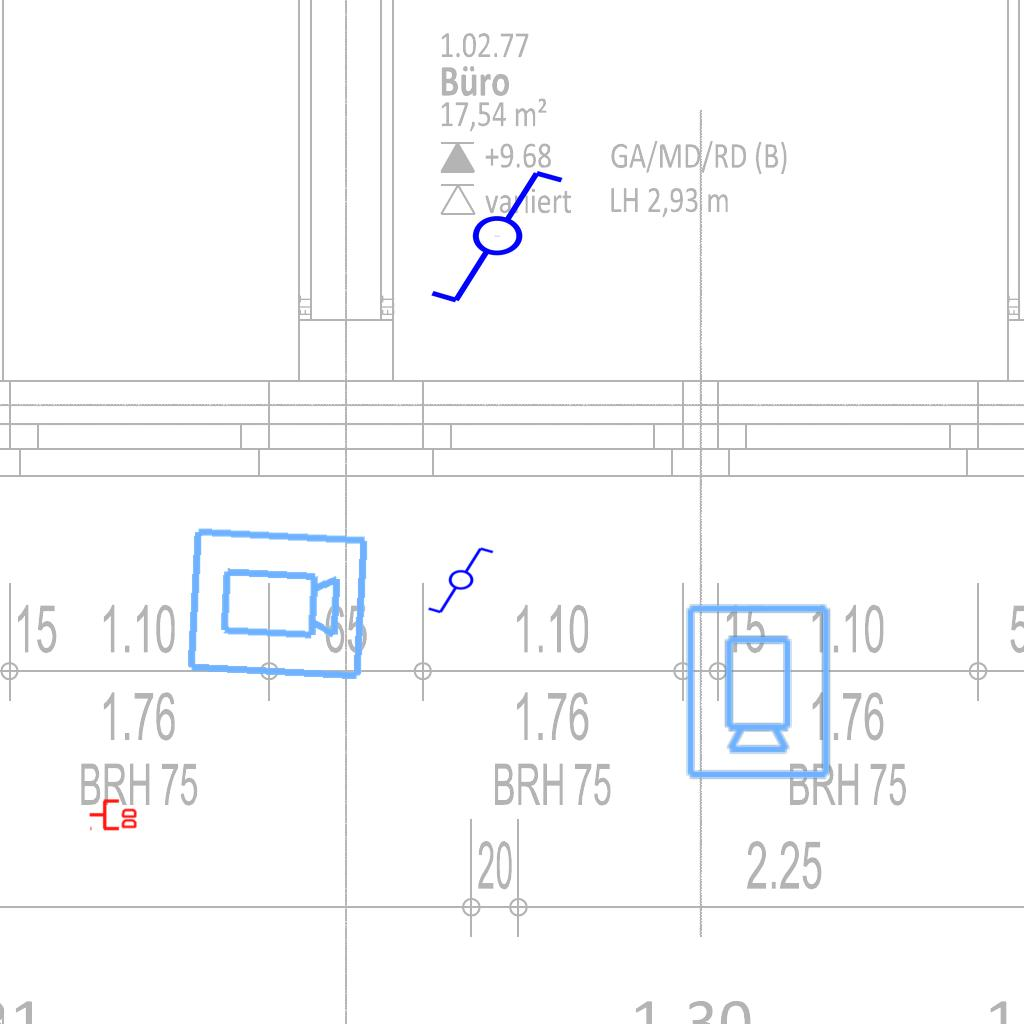Datenanschluss_zweifach: (88, 797, 139, 831)
KFO_Kamera_mit_Festobjektiv: (182, 523, 372, 687), (680, 600, 834, 782)
Wechselschalter: (427, 166, 584, 310), (426, 545, 504, 617)
